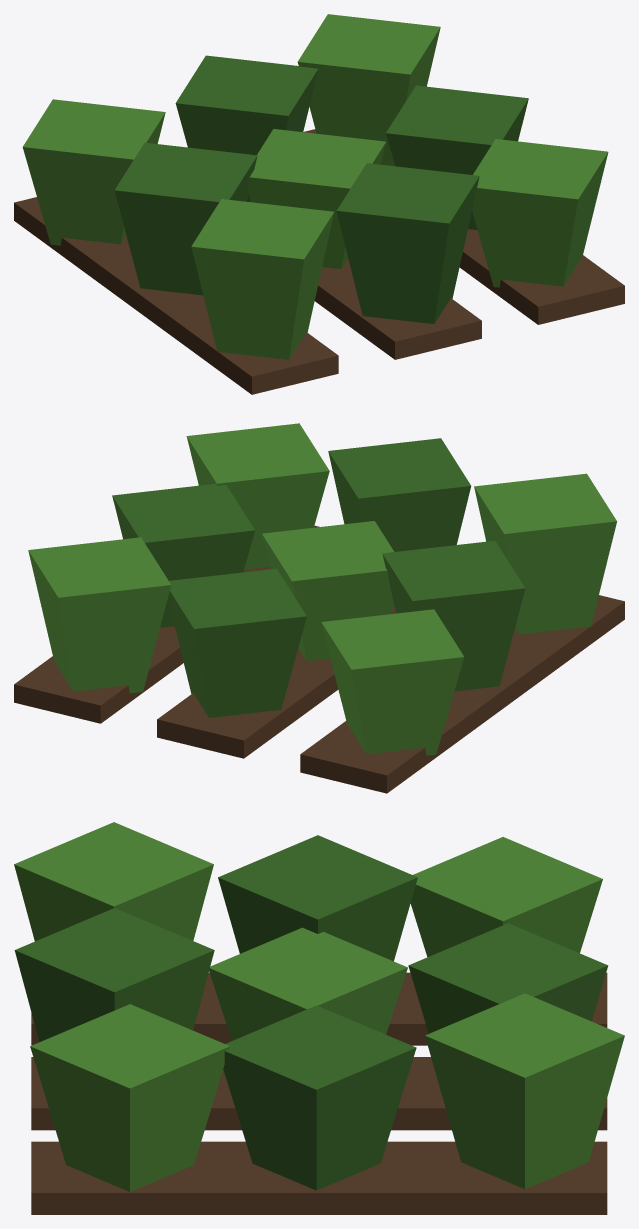
Rendered from crop_wheat_2.glb.
3 views of the same model, one above another, from view 1: azimuth 30°, elevation 25°; view 2: azimuth 150°, elevation 25°; view 3: azimuth 270°, elevation 25° (orthographic). The views are drawn at different scales.
Parts seen in each view (by area): view 1: crop_wheat_2; view 2: crop_wheat_2; view 3: crop_wheat_2.
Part boxes in pixels (x1,y1,x2,y2): crop_wheat_2: [14, 14, 624, 394]; crop_wheat_2: [14, 423, 624, 793]; crop_wheat_2: [14, 822, 624, 1214].
Bounding box in the file's own units: 1.99 × 0.5717 × 2.02.
